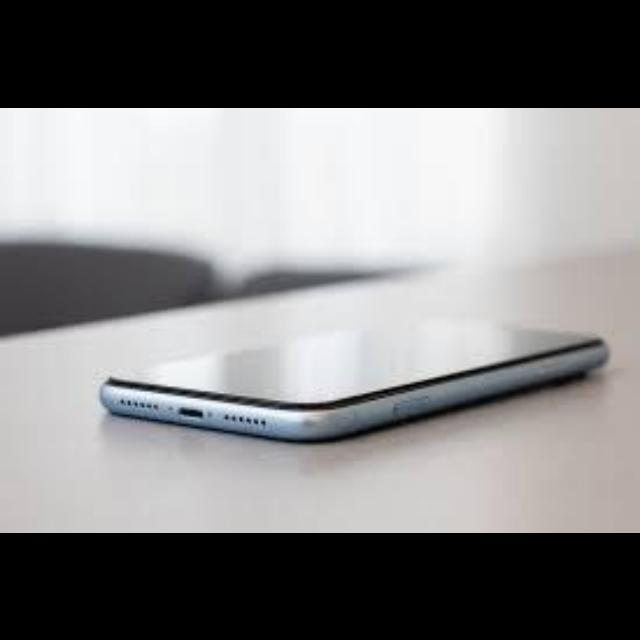Phone: (98, 308, 610, 442)
